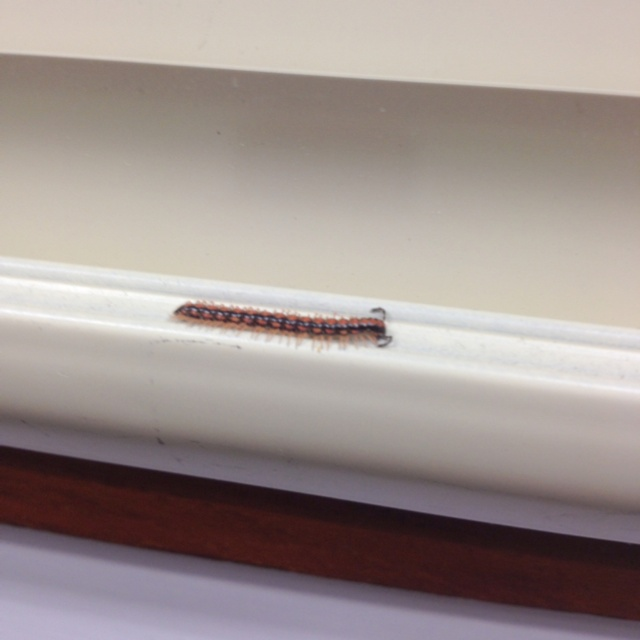Caterpillar: (172, 297, 393, 351)
